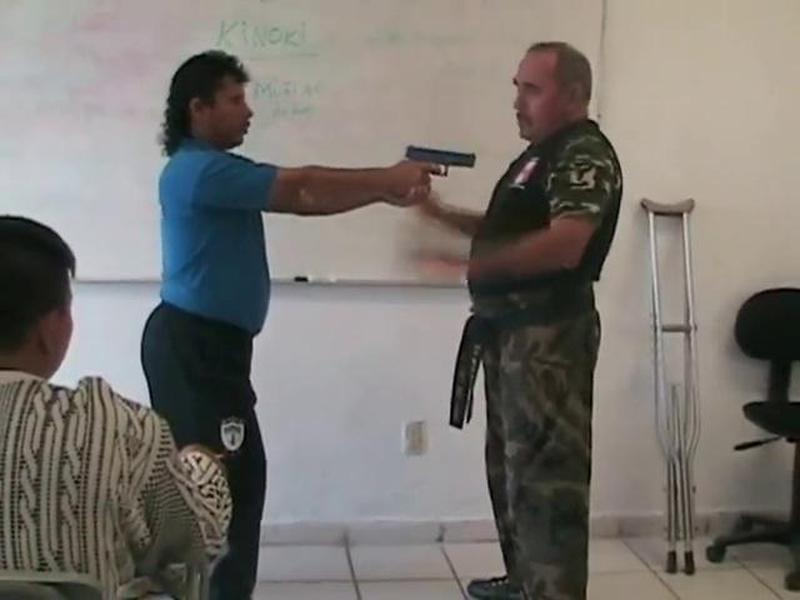Pistola: (392, 133, 482, 214)
